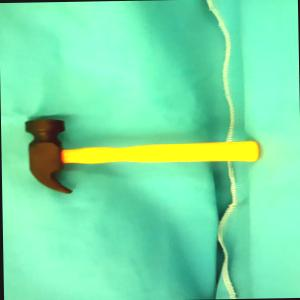martelo: (21, 115, 259, 194)
